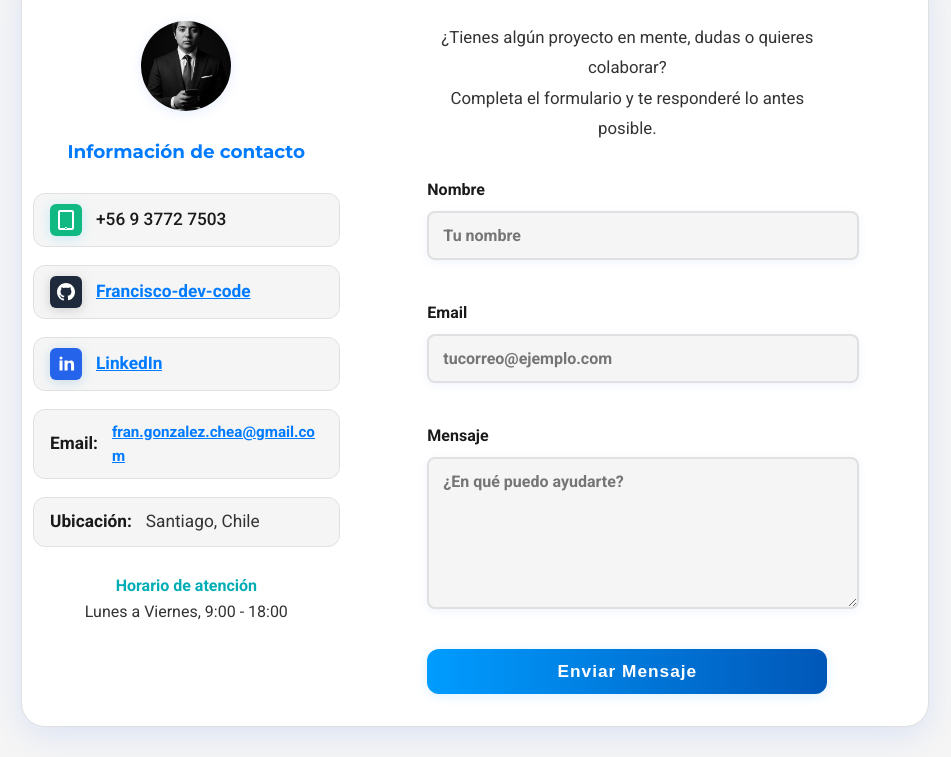
Contact › muestra múltiples errores simultáneamente
(page scrolled)
Hacer clic sin llenar ningún campo
Click the button "Enviar Mensaje": point(627, 672) [427,649,827,694]
(page scrolled)
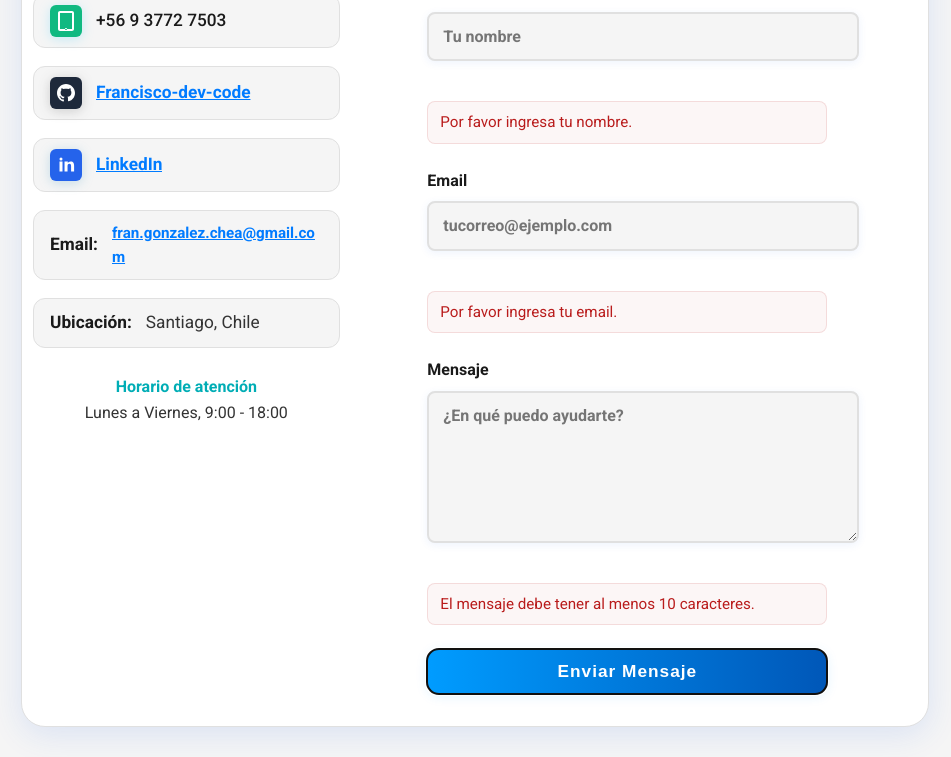
Check: the text "Por favor ingresa tu nombre." is shown, box [427,101,827,144]
Check: the text "Por favor ingresa tu email." is shown, box [427,291,827,333]
Check: the text "El mensaje debe tener al menos 10 caracteres." is shown, box [427,583,827,625]
